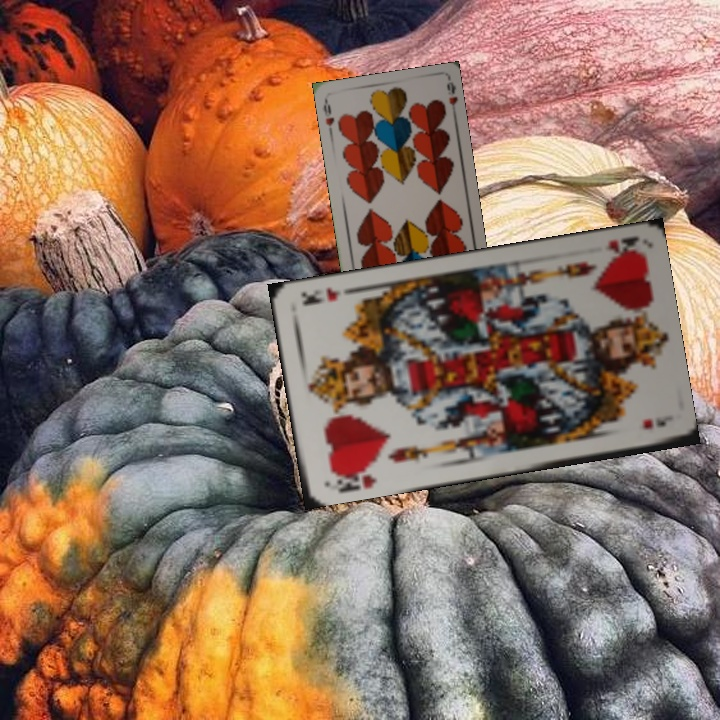H9: (319, 96, 337, 137)
HK: (327, 462, 379, 495), (601, 232, 642, 261)
